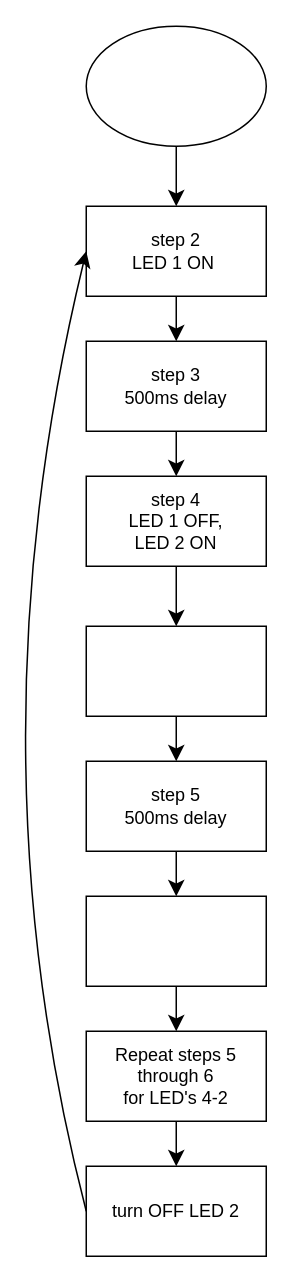
This 294x1283 diagram has some shape labels left out. The shapes that lost their labels are listed below. From the top down, each one's centre as x and y in pixels, then its label:
pixel 175 85: step 1 Start/ Run program
pixel 175 670: Repeat steps 2 through 4 for LED's 2 - 5
pixel 175 940: step 6 LED 5 OFF LED 4 ON
